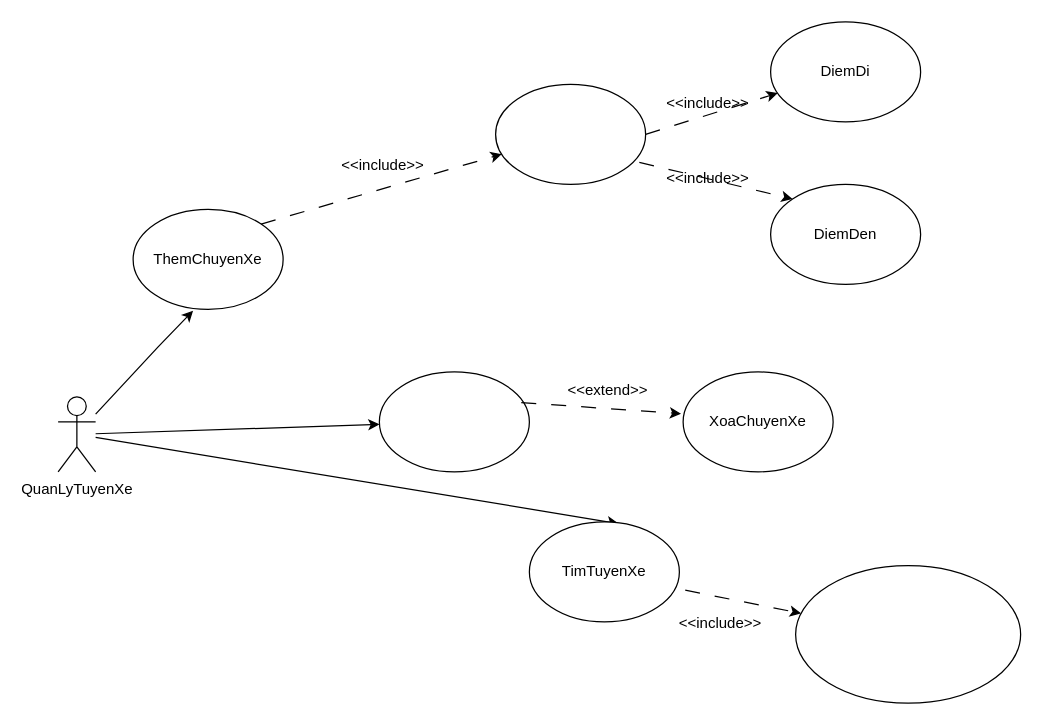
Image size: 1043x725. Some labels were removed from this diagram. The shapes that lost their labels are listed below. From the top down, each one's centre as x and y in pixels, then its label:
[570,133]: NhapThongTin
[453,421]: ChonChuyenXe
[907,633]: NhapTenTuyenXe,GioDi
